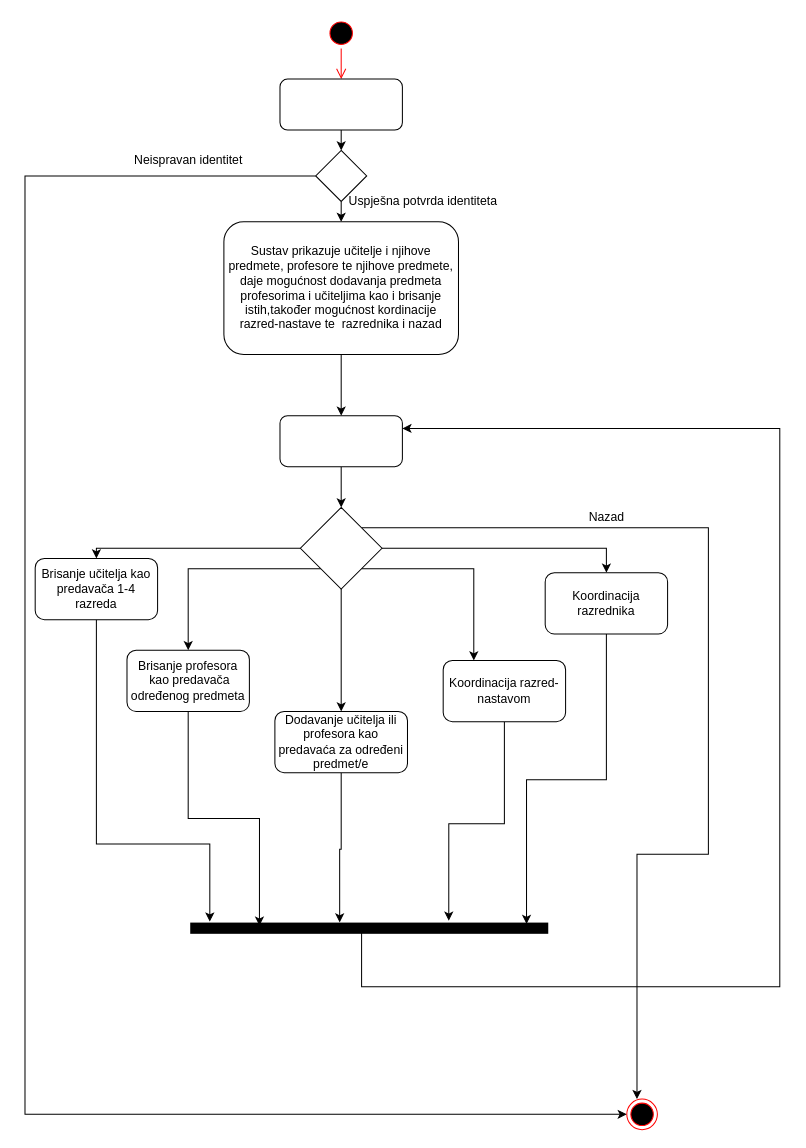
The diagram is 806 pixels wide and 1148 high, and some of its shapes have lost their labels. Here are the shapes that lost their labels. From the top down, the centre of each, then its label:
At [340,104]: "Sustav provjerava identitet".
At [340,441]: "Korisnik bira opciju".
